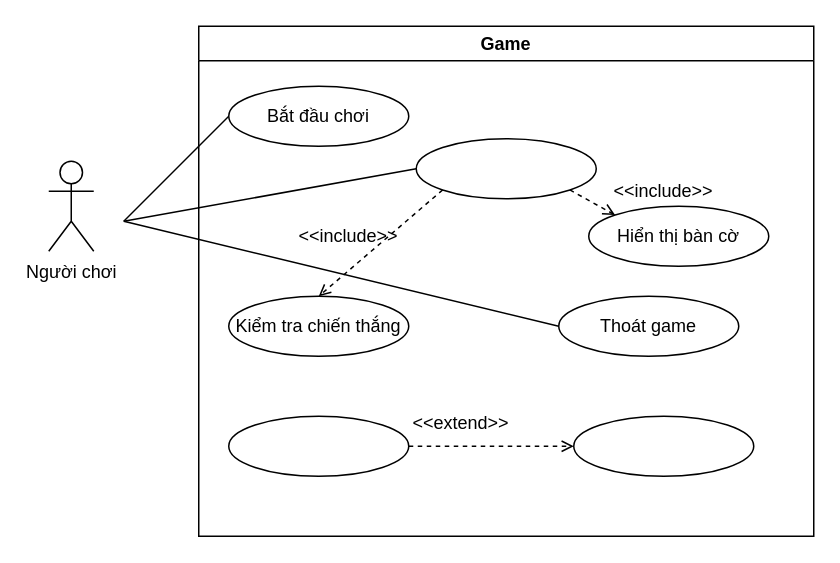
Some shapes in this 840 by 563 pixel diagram are drawn without their labels. Each missing label, with the box of its shape:
Chơi lại: (572, 415, 754, 476)
Chơi theo lượt: (415, 137, 596, 199)
Thông báo kết quả: (227, 415, 409, 476)
